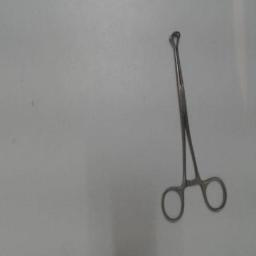Babcock Tissue Forceps: (158, 28, 230, 224)
